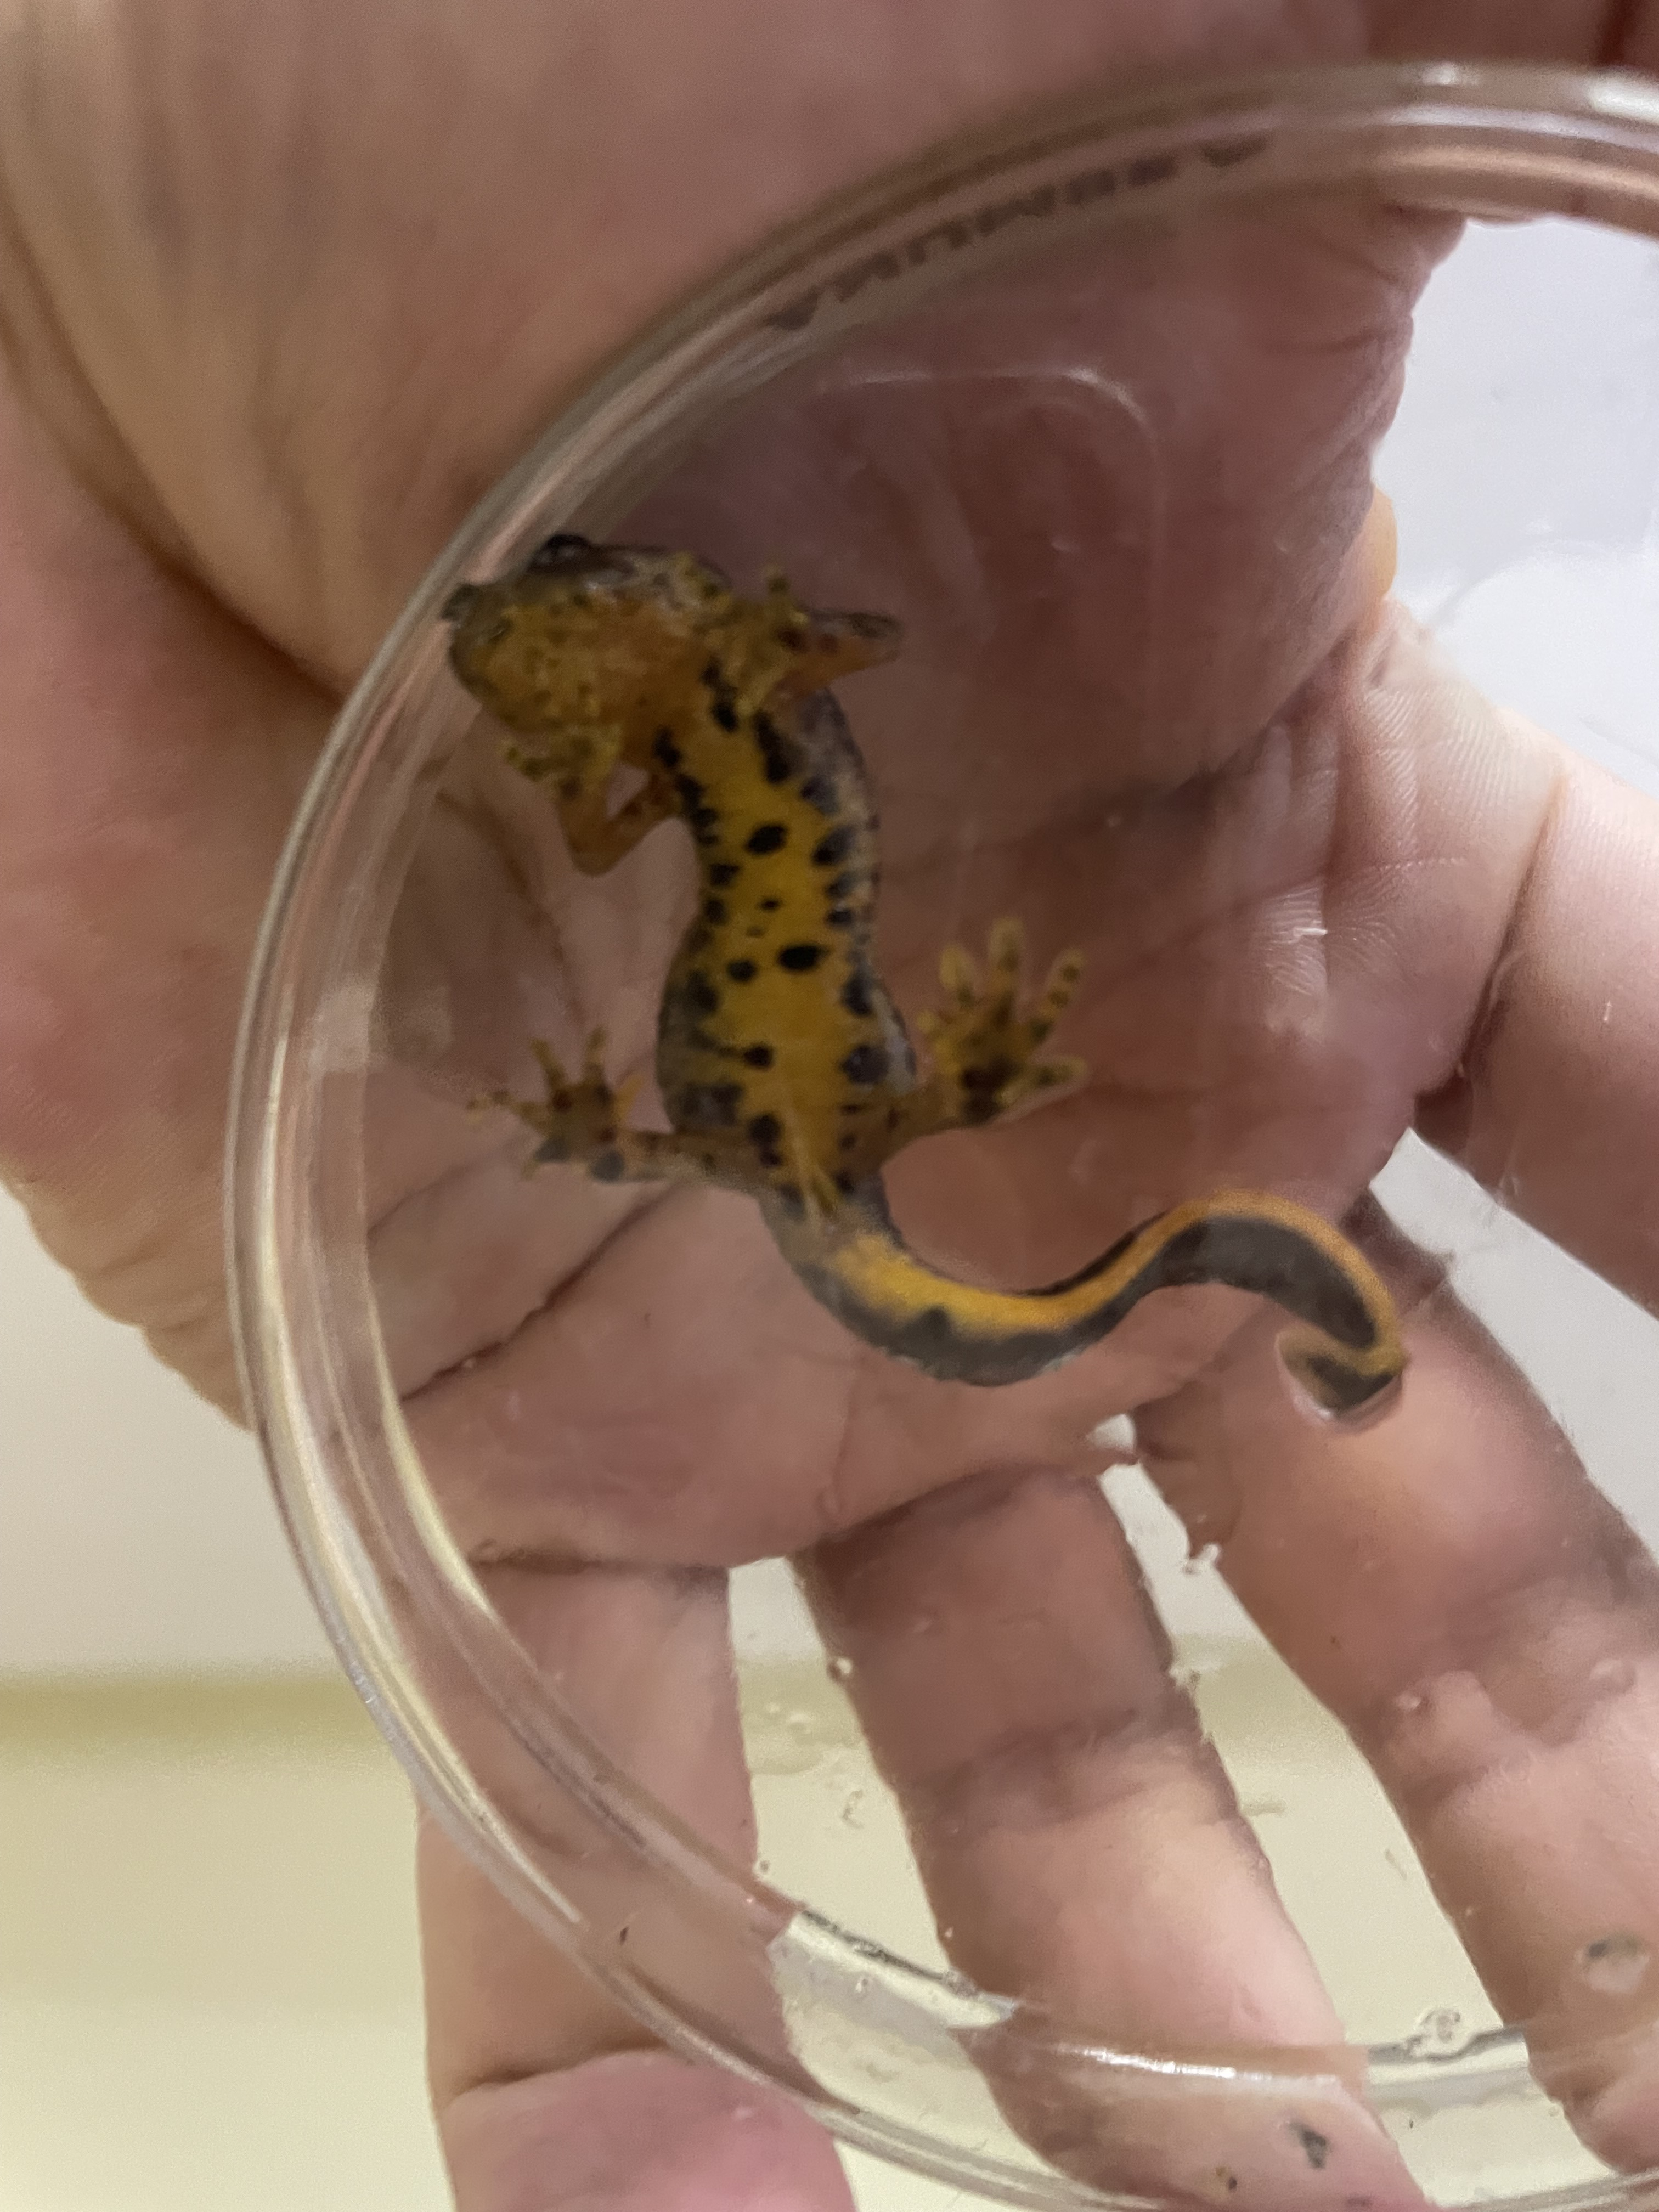Karelin_newt: (655, 679, 920, 1118)
